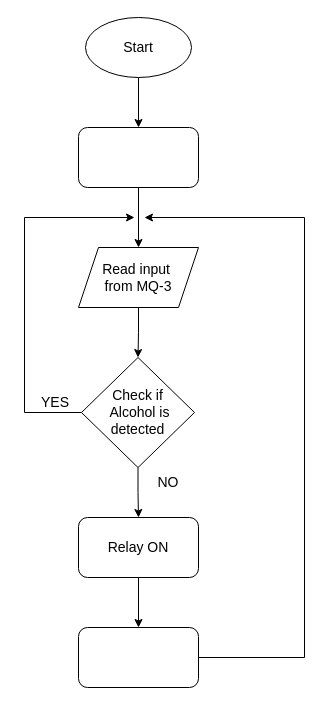
This 330x705 diagram has some shape labels left out. Each missing label, with the box of its shape:
Ignition ON: (78, 126, 198, 188)
Spark Plug ON (Engine): (78, 626, 198, 688)
